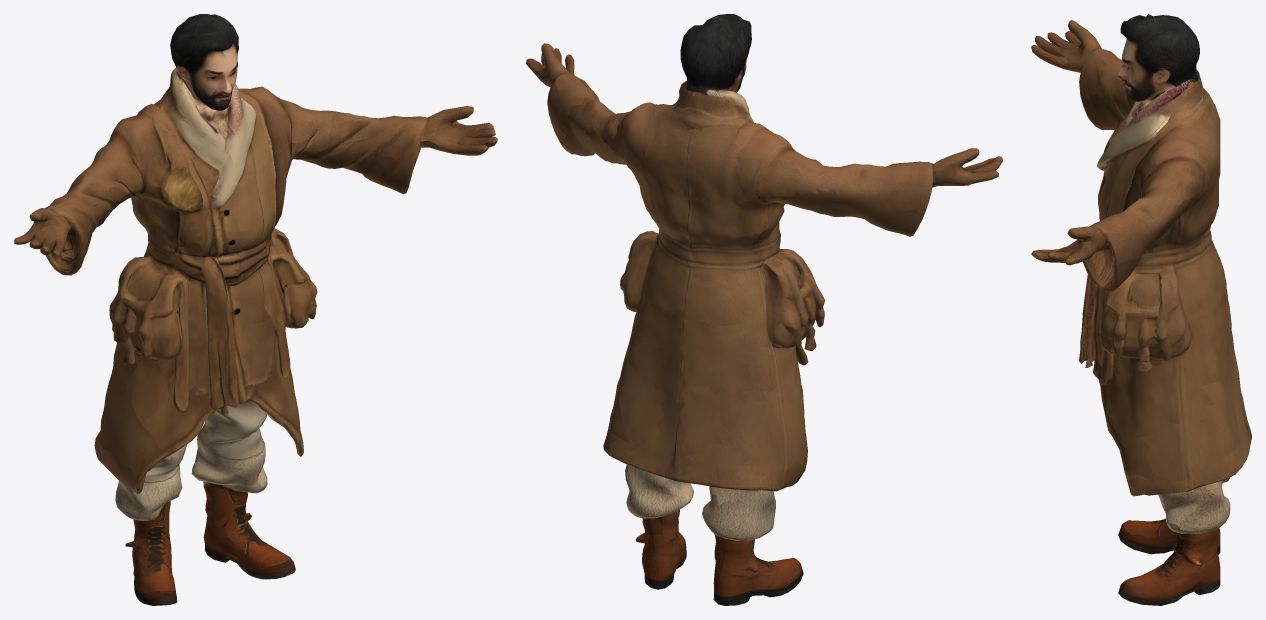
The model's file is refine.glb.
3 views of the same model, side by side, from view 1: azimuth 30°, elevation 25°; view 2: azimuth 150°, elevation 25°; view 3: azimuth 270°, elevation 25° (orthographic).
Size of the model in its own units: 1.69 by 1.91 by 0.6849.
Materials: 1 (1 with a texture image).
